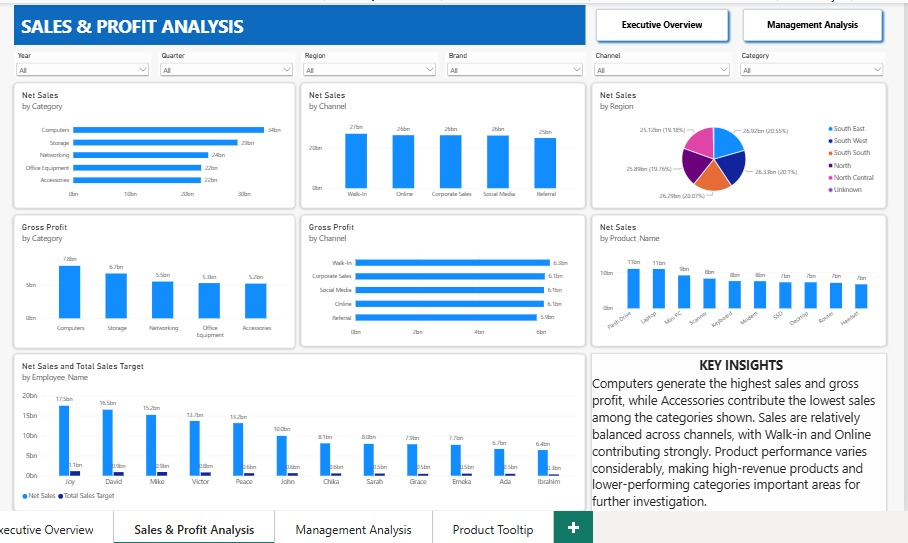

What the dashboard file says about the page in this screenshot:
{"tool":"powerbi","page":{"name":"Sales & Profit Analysis","canvas":[1920,1080],"ordinal":1},"visuals":[{"type":"clusteredBarChart","fields":{"Category":["Dim_Products.Category"],"Y":["Dim_Customers.Completed Sales"]},"box":[29.8,170.1,597.4,265.7],"z":0},{"type":"clusteredColumnChart","fields":{"Category":["Fact_Sales.Channel"],"Y":["Dim_Customers.Completed Sales"]},"box":[639.9,170.1,603.8,265.7],"z":1000},{"type":"pieChart","fields":{"Category":["Dim_Customers.Region"],"Y":["Dim_Customers.Completed Sales"]},"box":[1258.6,170.1,625,265.7],"z":2000},{"type":"clusteredColumnChart","fields":{"Category":["Dim_Products.Category"],"Y":["Dim_Customers.Gross Profit"]},"box":[29.8,450.7,597.4,282.8],"z":3000},{"type":"clusteredBarChart","fields":{"Category":["Fact_Sales.Channel"],"Y":["Dim_Customers.Gross Profit"]},"box":[639.9,450.7,603.8,278.5],"z":4000},{"type":"clusteredColumnChart","fields":{"Category":["Dim_Products.Product_Name"],"Y":["Dim_Customers.Completed Sales"]},"box":[1258.6,450.7,625,278.5],"z":5000},{"type":"clusteredColumnChart","fields":{"Category":["Dim_Employees.Employee_Name"],"Y":["Dim_Customers.Completed Sales","Dim_Customers.Total Sales Target"]},"box":[29.8,746.2,1213.9,333.8],"z":6000},{"type":"slicer","fields":{"Values":["Dim_Date.Date.Variation.Date Hierarchy.Year"]},"box":[30,104,292,52],"z":7000},{"type":"slicer","fields":{"Values":["Dim_Date.Date.Variation.Date Hierarchy.Quarter"]},"box":[336,104,292,52],"z":8000},{"type":"slicer","fields":{"Values":["Dim_Customers.Region"]},"box":[640,104,292,52],"z":9000},{"type":"slicer","fields":{"Values":["Dim_Products.Brand"]},"box":[946,104,298,52],"z":10000},{"type":"slicer","fields":{"Values":["Fact_Sales.Channel"]},"box":[1258,104,298,52],"z":11000},{"type":"slicer","fields":{"Values":["Dim_Products.Category"]},"box":[1570,104,314,52],"z":12000},{"type":"textbox","box":[29,3.9,1215.5,85.2],"z":13000},{"type":"actionButton","box":[1258.6,4.3,297.6,85],"z":14000},{"type":"actionButton","box":[1571.1,4.3,312.5,85],"z":15000},{"type":"textbox","box":[1258.6,746.2,625,333.8],"z":16000}]}

Visuals, with their boxes on the page's 1920x1080 design canvas (x1, y1, x2, y2). These are canvas units, not pixel positions in the 908x543 screenshot, which may show the page scaled, cropped or inside an application window:
clusteredBarChart - Dim_Products.Category x Dim_Customers.Completed Sales: box=[30, 170, 627, 436]
clusteredColumnChart - Fact_Sales.Channel x Dim_Customers.Completed Sales: box=[640, 170, 1244, 436]
pieChart - Dim_Customers.Region x Dim_Customers.Completed Sales: box=[1259, 170, 1884, 436]
clusteredColumnChart - Dim_Products.Category x Dim_Customers.Gross Profit: box=[30, 451, 627, 734]
clusteredBarChart - Fact_Sales.Channel x Dim_Customers.Gross Profit: box=[640, 451, 1244, 729]
clusteredColumnChart - Dim_Products.Product_Name x Dim_Customers.Completed Sales: box=[1259, 451, 1884, 729]
clusteredColumnChart - Dim_Employees.Employee_Name x Dim_Customers.Completed Sales: box=[30, 746, 1244, 1080]
slicer - Dim_Date.Date.Variation.Date Hierarchy.Year: box=[30, 104, 322, 156]
slicer - Dim_Date.Date.Variation.Date Hierarchy.Quarter: box=[336, 104, 628, 156]
slicer - Dim_Customers.Region: box=[640, 104, 932, 156]
slicer - Dim_Products.Brand: box=[946, 104, 1244, 156]
slicer - Fact_Sales.Channel: box=[1258, 104, 1556, 156]
slicer - Dim_Products.Category: box=[1570, 104, 1884, 156]
textbox: box=[29, 4, 1244, 89]
actionButton: box=[1259, 4, 1556, 89]
actionButton: box=[1571, 4, 1884, 89]
textbox: box=[1259, 746, 1884, 1080]
